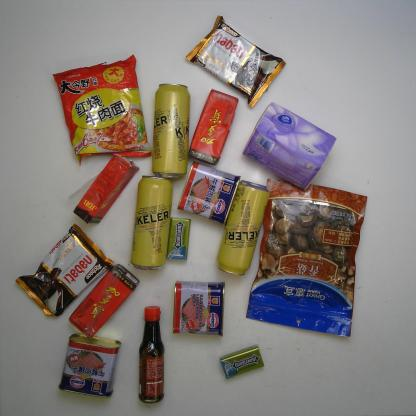Alcohol: (216, 180, 270, 275), (132, 174, 173, 270), (152, 83, 190, 179)
Canned Food: (58, 334, 122, 398), (178, 161, 240, 226), (172, 280, 223, 336)
Dessert: (16, 223, 114, 317), (186, 16, 286, 107)
Dried Food: (246, 179, 368, 336)
Drink: (69, 265, 139, 339), (73, 156, 139, 224), (188, 89, 238, 164)
Gum: (219, 344, 264, 379), (166, 218, 190, 261)
Instant Noodles: (53, 54, 153, 166)
Seasoner: (138, 307, 165, 402)
Tissue: (242, 102, 338, 189)
